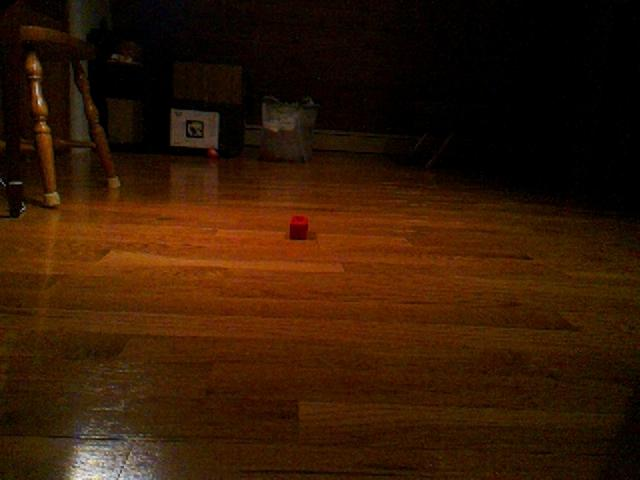red: (289, 214, 310, 241)
